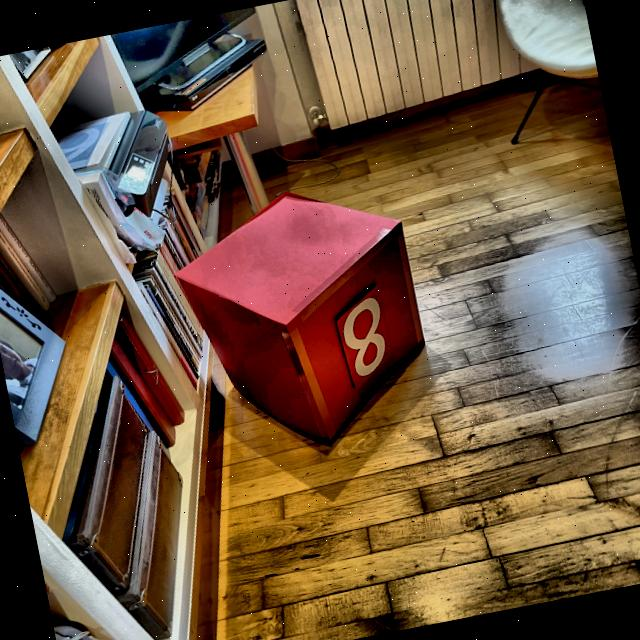eight: (337, 296, 393, 382)
red box: (161, 172, 447, 470)
